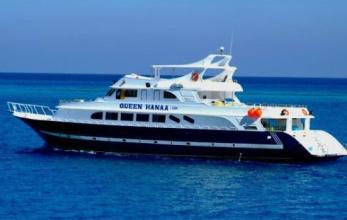yacht: (3, 46, 345, 159)
